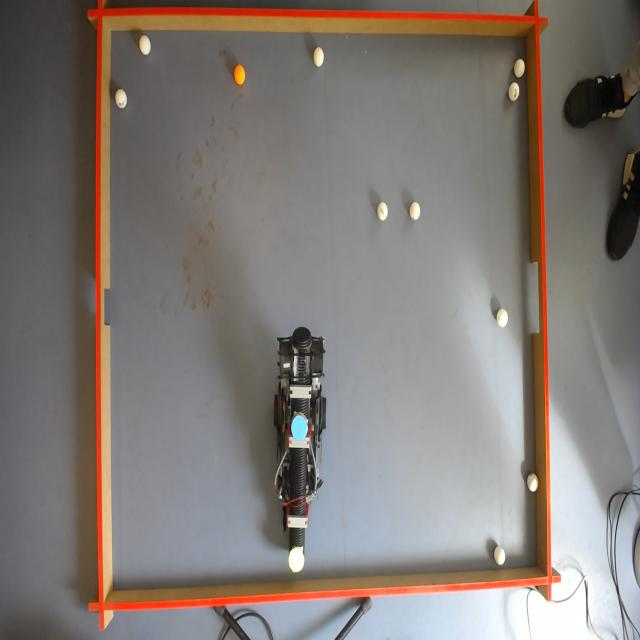orange: (232, 66, 246, 86)
robot: (274, 325, 328, 577)
robot-front: (288, 545, 304, 578)
robot-rear: (290, 416, 309, 440)
white: (493, 544, 507, 567), (137, 36, 151, 58), (115, 87, 127, 110), (508, 82, 520, 104), (496, 309, 510, 327), (528, 473, 540, 493), (409, 202, 422, 220), (377, 202, 390, 220), (514, 59, 526, 77), (313, 49, 325, 66)
